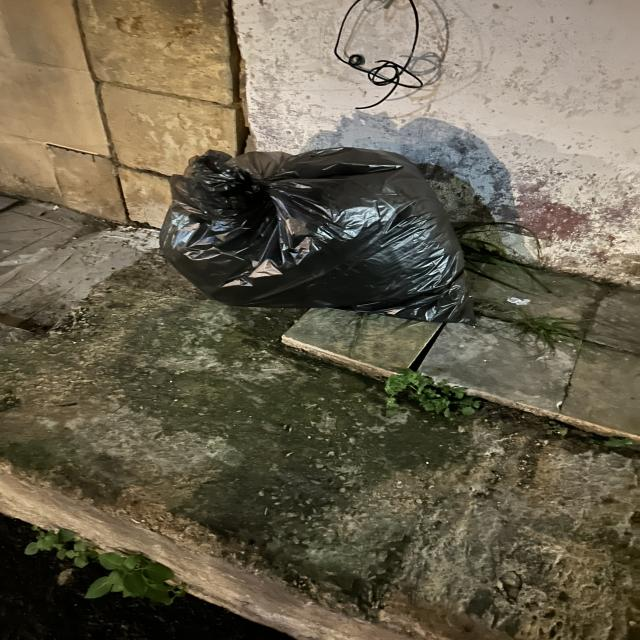Mixed Waste -Black Bag-: (158, 147, 475, 326)
